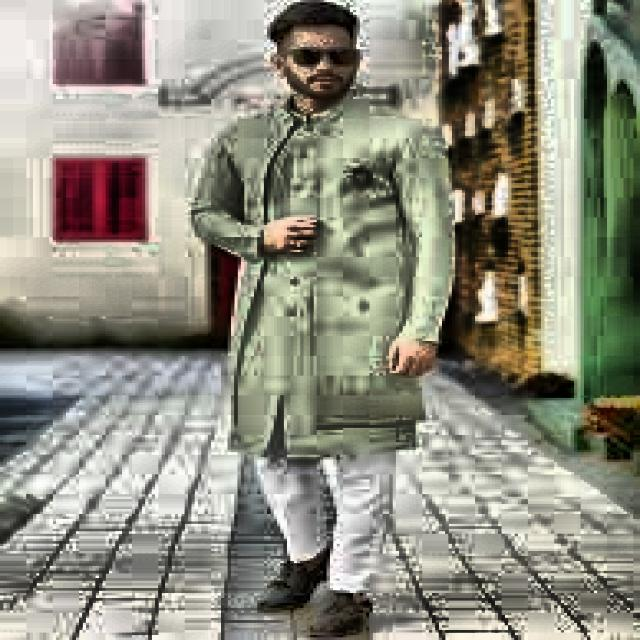Human: (171, 0, 454, 639)
